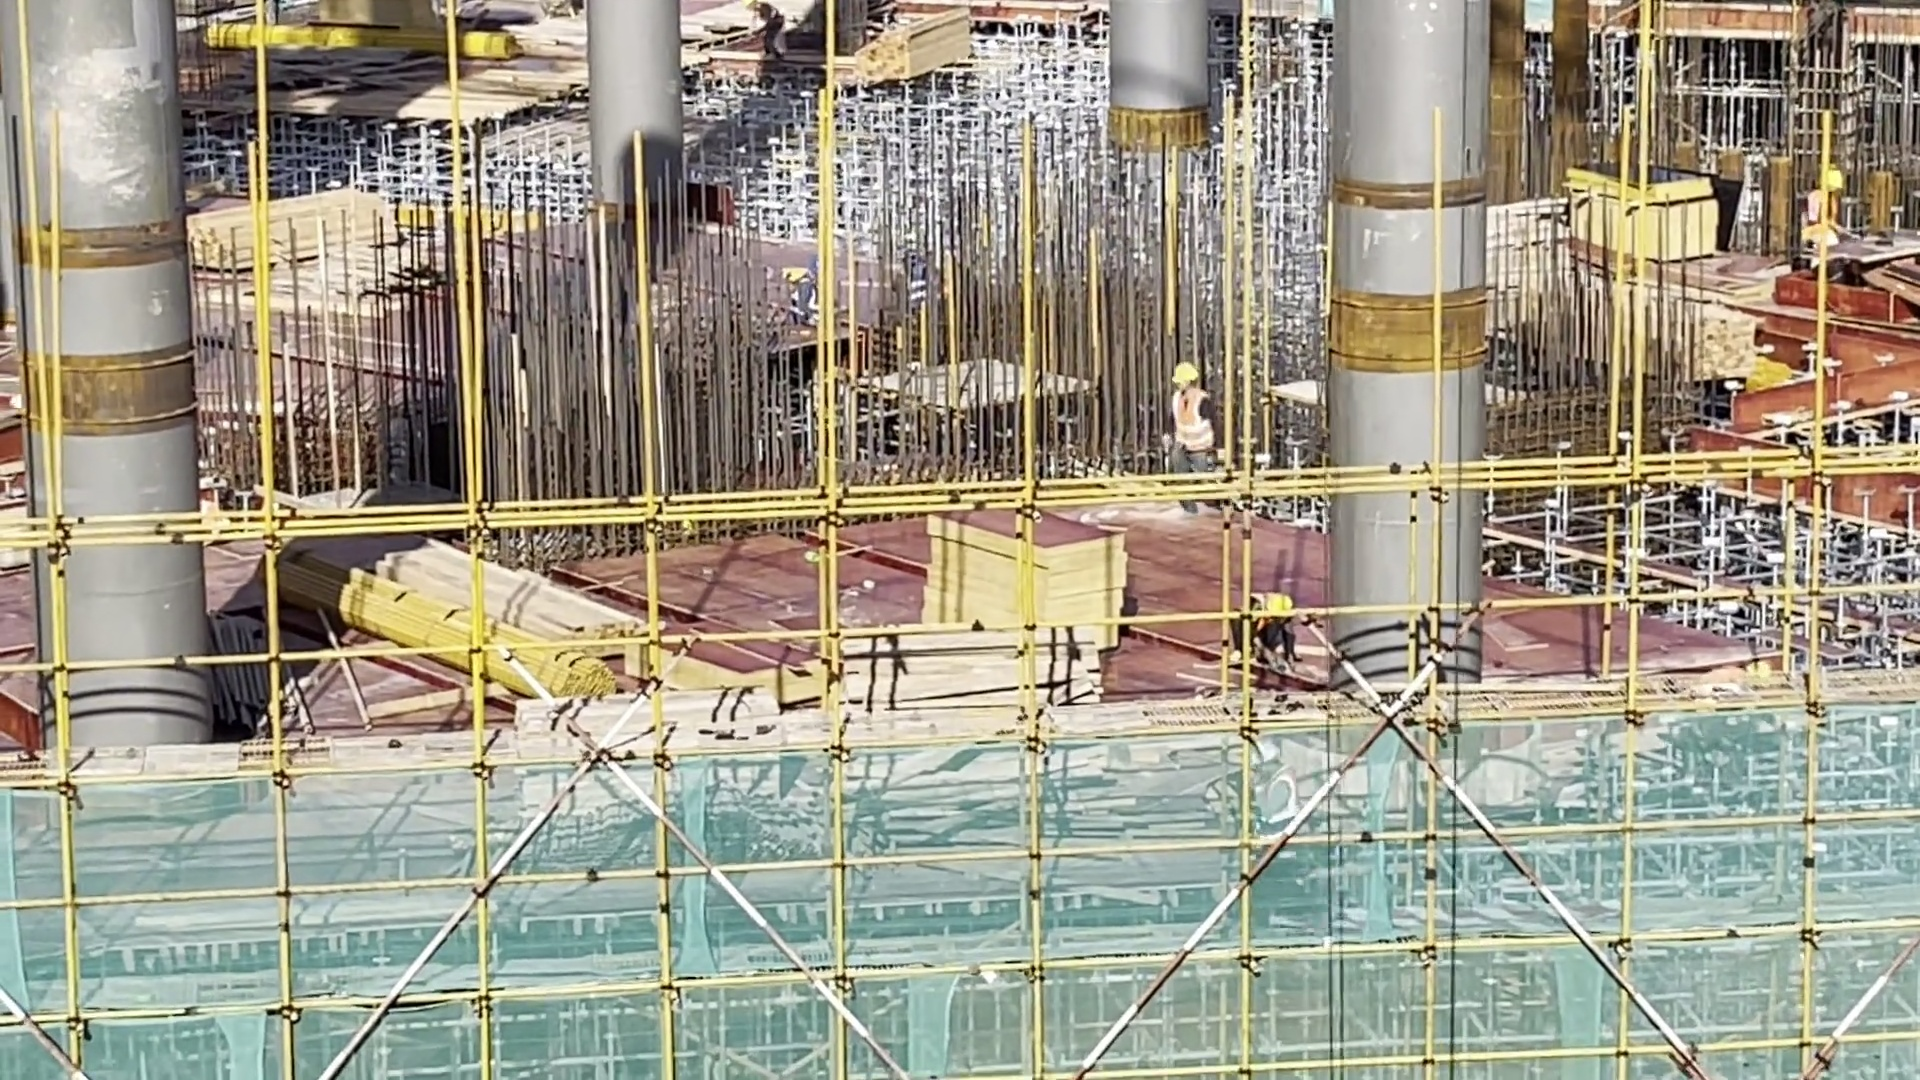board: (915, 504, 1133, 661)
person: (1165, 362, 1223, 515), (1240, 589, 1297, 666)
vest: (1173, 393, 1215, 450)
wood: (358, 549, 647, 704), (843, 643, 1100, 711), (192, 188, 413, 260), (851, 16, 977, 84), (1690, 304, 1766, 383)
